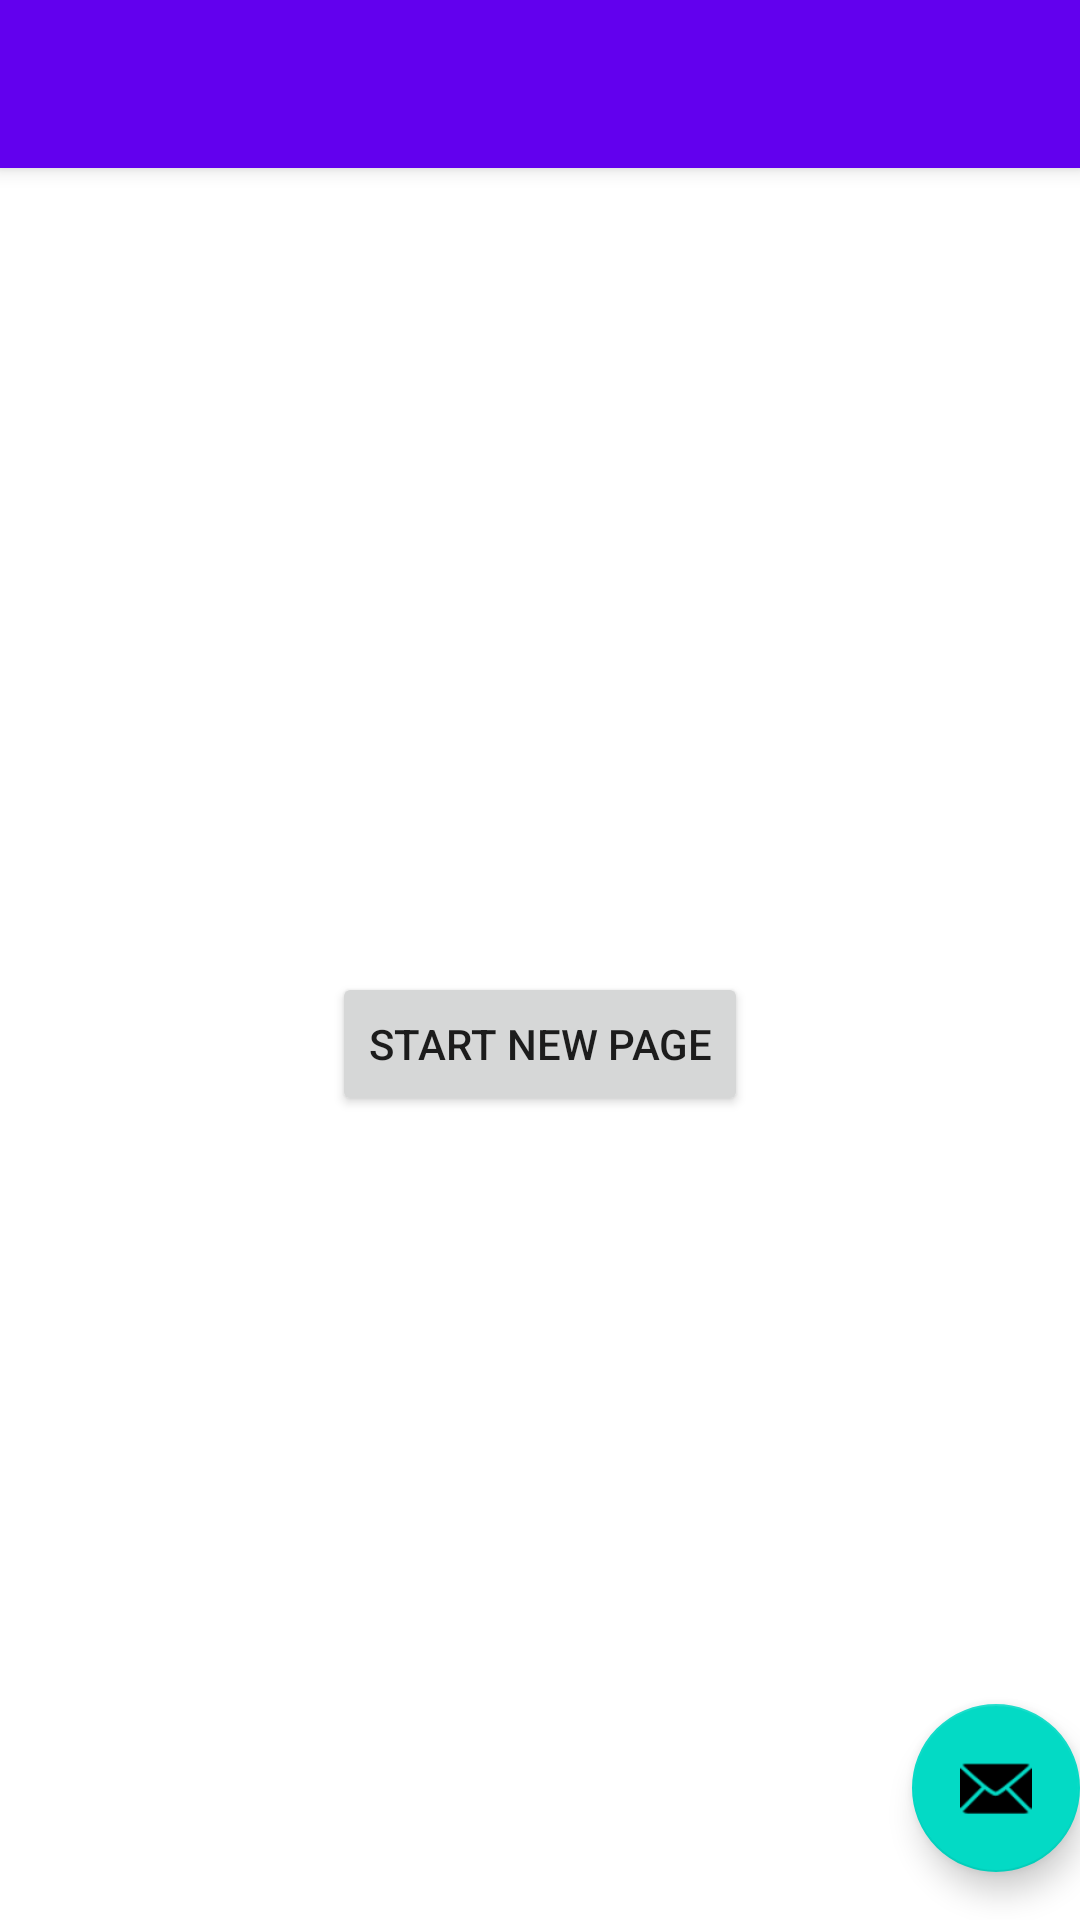

Icons on this 1080w x 1920h Android screen, each with its box as (x1, y1, x2, y2):
email: (912, 1704, 1080, 1872)
